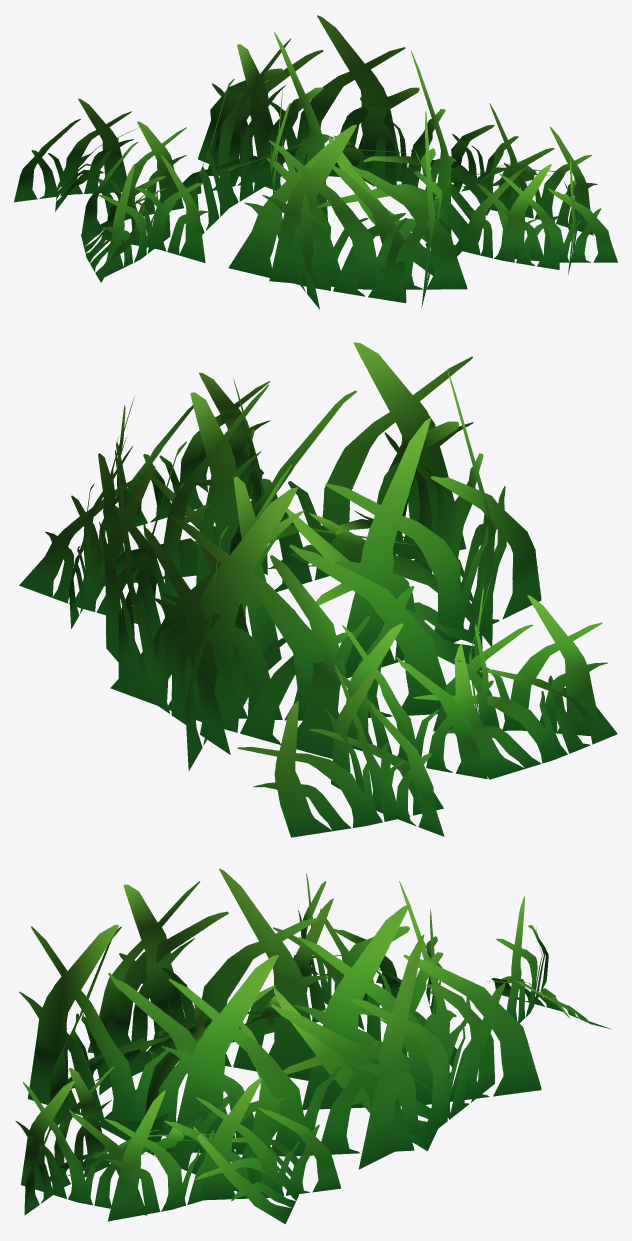
Rendered from SM_Grass_Test.fbx.
The picture shows the model from 3 angles, top to bottom: view 1: azimuth 30°, elevation 25°; view 2: azimuth 150°, elevation 25°; view 3: azimuth 270°, elevation 25°; orthographic projection. The views are drawn at different scales.
Parts seen in each view (by area): view 1: SM_Grass_Test; view 2: SM_Grass_Test; view 3: SM_Grass_Test.
Boxes of the visible parts, bbox=[...] form: SM_Grass_Test: bbox=[14, 15, 617, 309]; SM_Grass_Test: bbox=[19, 342, 617, 837]; SM_Grass_Test: bbox=[15, 868, 611, 1224].
Size of the model in its own units: 251 by 91.4 by 250.
1 material, 1 textured.
